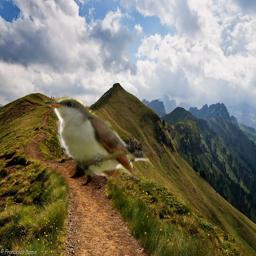Cuckoo: (40, 90, 149, 180)
